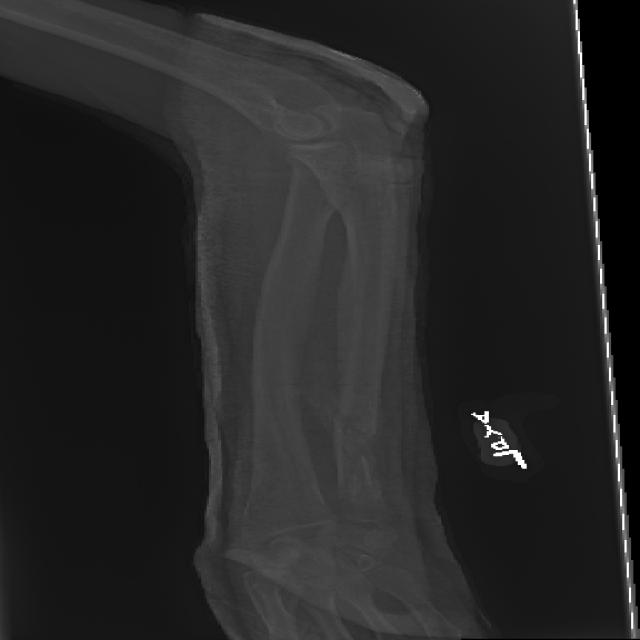forearm fracture: (314, 383, 415, 475)
